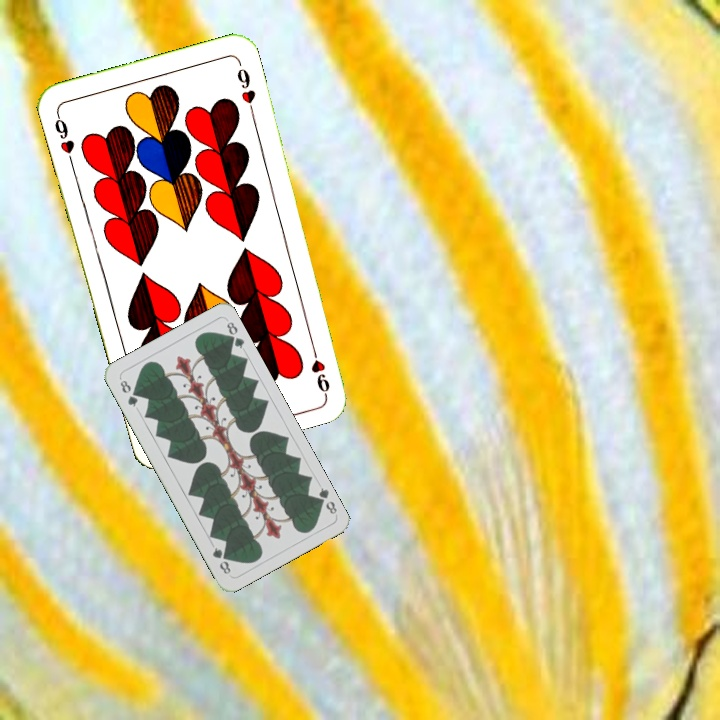G8: (311, 483, 340, 517), (116, 376, 141, 410)
H9: (50, 108, 77, 166), (306, 338, 333, 396)
